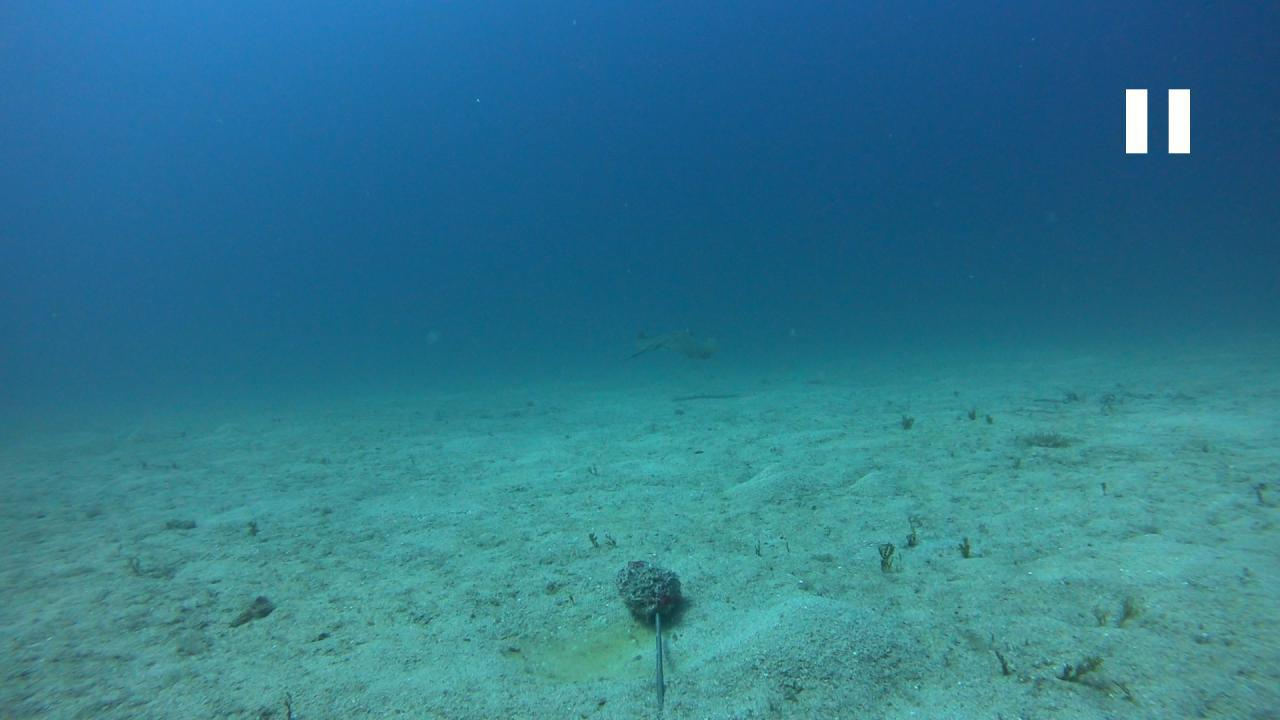dasyatis: (624, 322, 718, 361)
